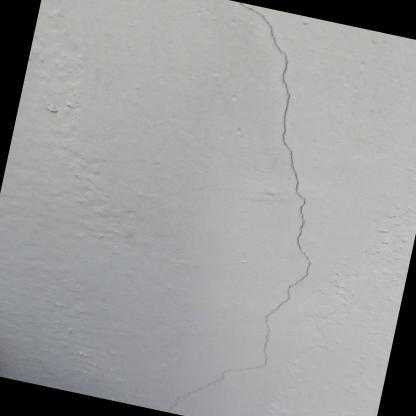crack: (166, 2, 309, 412)
